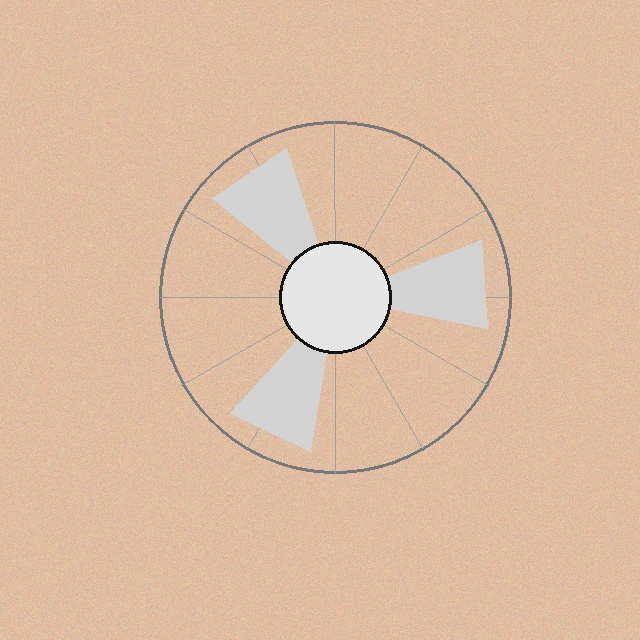fan: (155, 117, 515, 477)
